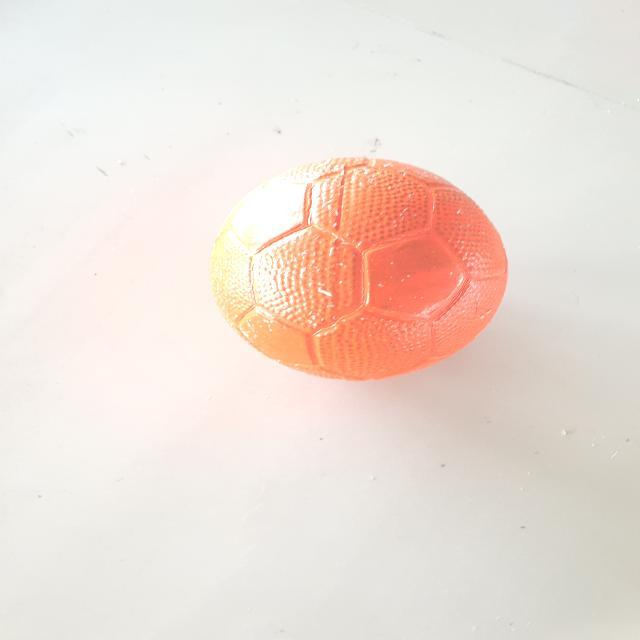bola: (199, 147, 518, 388)
